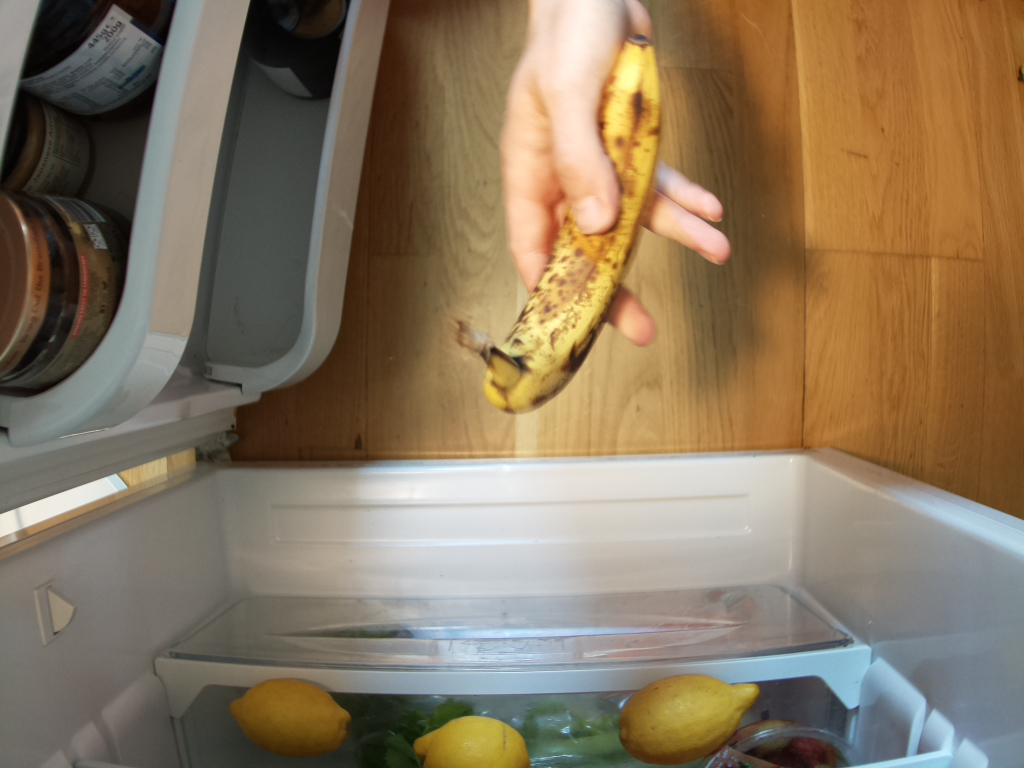banana-overripe: (463, 31, 659, 412)
